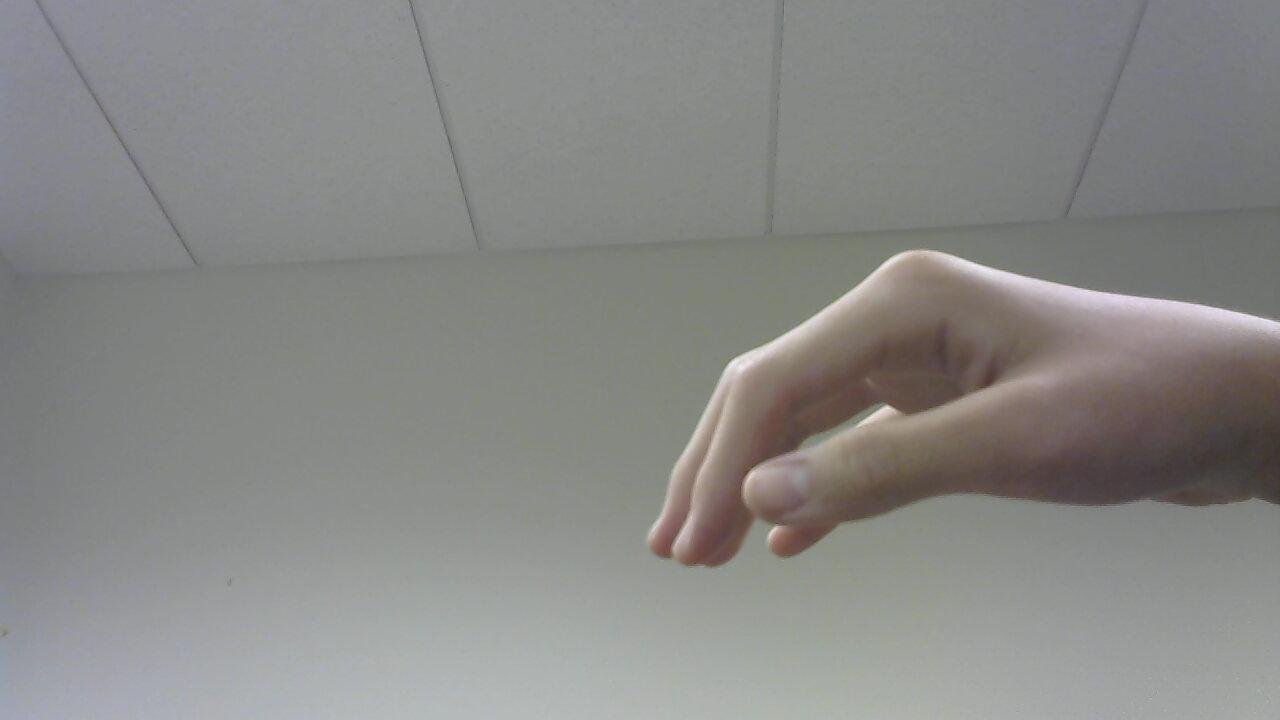hands: (636, 234, 1280, 575)
